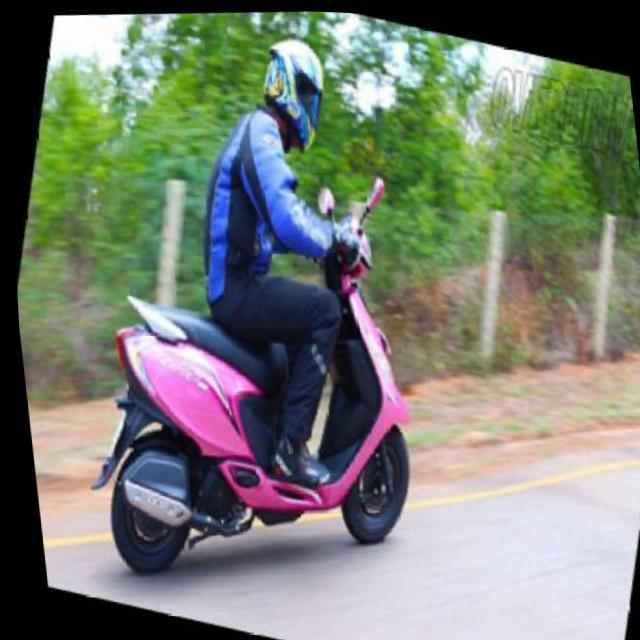Helmet: (256, 28, 329, 158)
